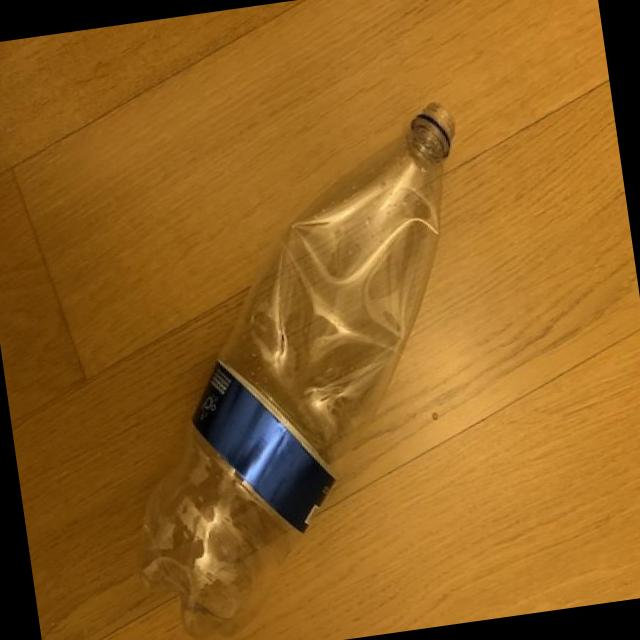plastic_bottle: (78, 99, 520, 640)
